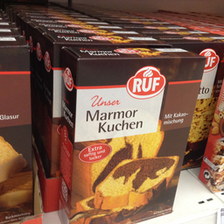cake: (60, 47, 207, 224)
